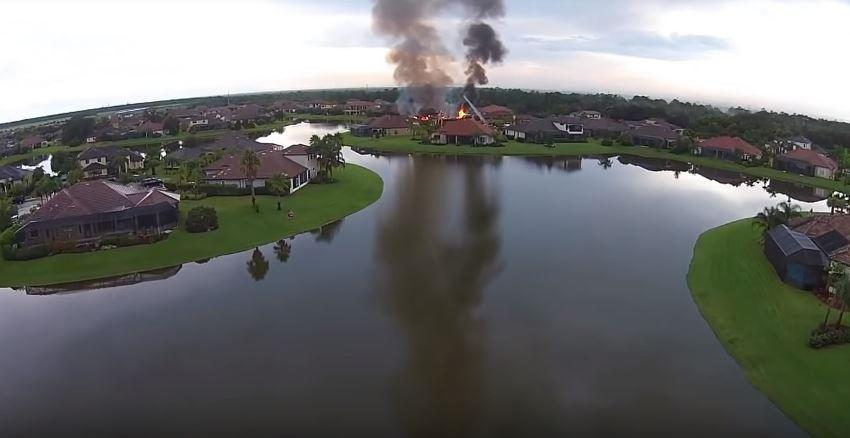fire: (451, 102, 479, 120)
smoke: (393, 14, 442, 91)
